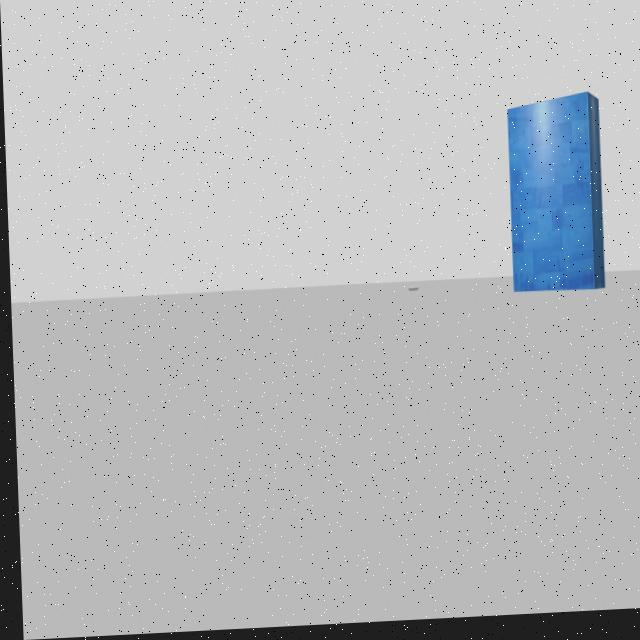bowl: (402, 283, 421, 301)
shelf: (500, 94, 608, 309)
